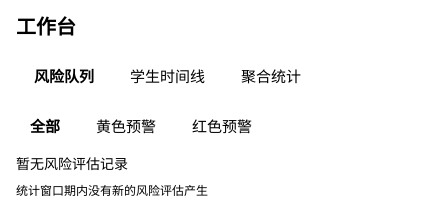
Scenario: WorkbenchView (咨询员工作台) › 学生时间线视图: 输入 UUID 查询渲染事件列表, 空结果展示空态
Click the tab "学生时间线" at (168, 76), box [112,57,223,95]
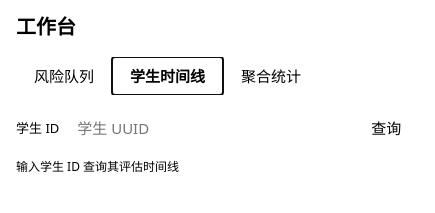
Type "22222222-2222-4222-8222-222222222222" into the field labelled "学生 ID" at (207, 128), box [67,109,347,147]
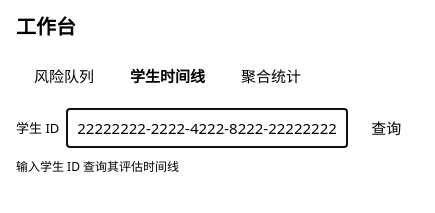
Click the button "查询" at (386, 128), box [355,110,417,146]
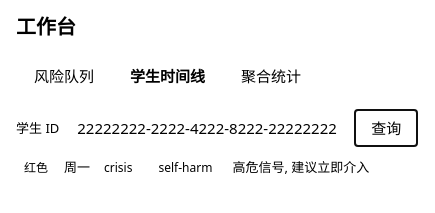
Result: the text "高危信号, 建议立即介入" is shown at [232,157,369,178]
Click the button "查询" at (386, 128), box [355,110,417,146]
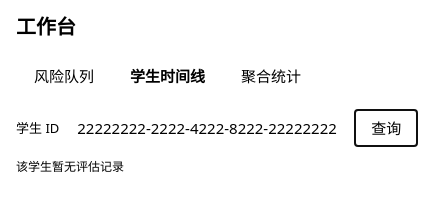
Result: the text "该学生暂无评估记录" is shown at [16,158,124,175]
